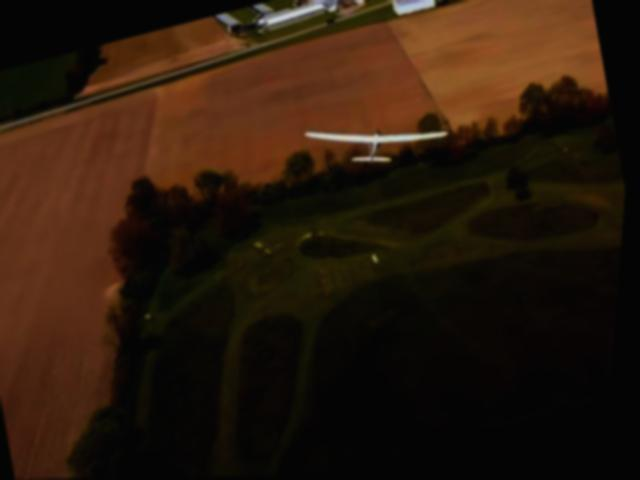iha: (305, 95, 454, 184)
